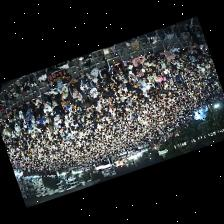person: (98, 54, 110, 78), (67, 78, 80, 93), (131, 54, 144, 68), (41, 96, 50, 115), (85, 67, 97, 81), (112, 61, 123, 76), (45, 89, 60, 100), (163, 50, 175, 63), (109, 70, 119, 85), (51, 101, 59, 119), (29, 96, 41, 107), (145, 51, 156, 63), (57, 84, 67, 97), (117, 69, 127, 82), (80, 74, 90, 86), (61, 93, 71, 105), (127, 67, 135, 81), (23, 108, 30, 124), (91, 76, 101, 87), (71, 89, 82, 99), (18, 102, 27, 114), (79, 81, 88, 93), (158, 59, 166, 72), (89, 84, 97, 97), (79, 101, 89, 111), (142, 61, 152, 71), (178, 46, 188, 56), (100, 79, 109, 90), (163, 57, 170, 70), (146, 66, 155, 76), (137, 72, 147, 81), (156, 74, 164, 85), (171, 45, 179, 56), (28, 101, 35, 113), (96, 86, 105, 95), (42, 113, 48, 126), (106, 90, 113, 101), (181, 54, 190, 62), (124, 59, 132, 68), (146, 75, 155, 83), (6, 111, 13, 121), (94, 100, 100, 111), (1, 114, 8, 123), (162, 69, 170, 76), (198, 44, 206, 51), (187, 41, 192, 52), (81, 93, 86, 102), (139, 68, 144, 77), (12, 108, 18, 115), (135, 67, 140, 75), (12, 116, 18, 122)
